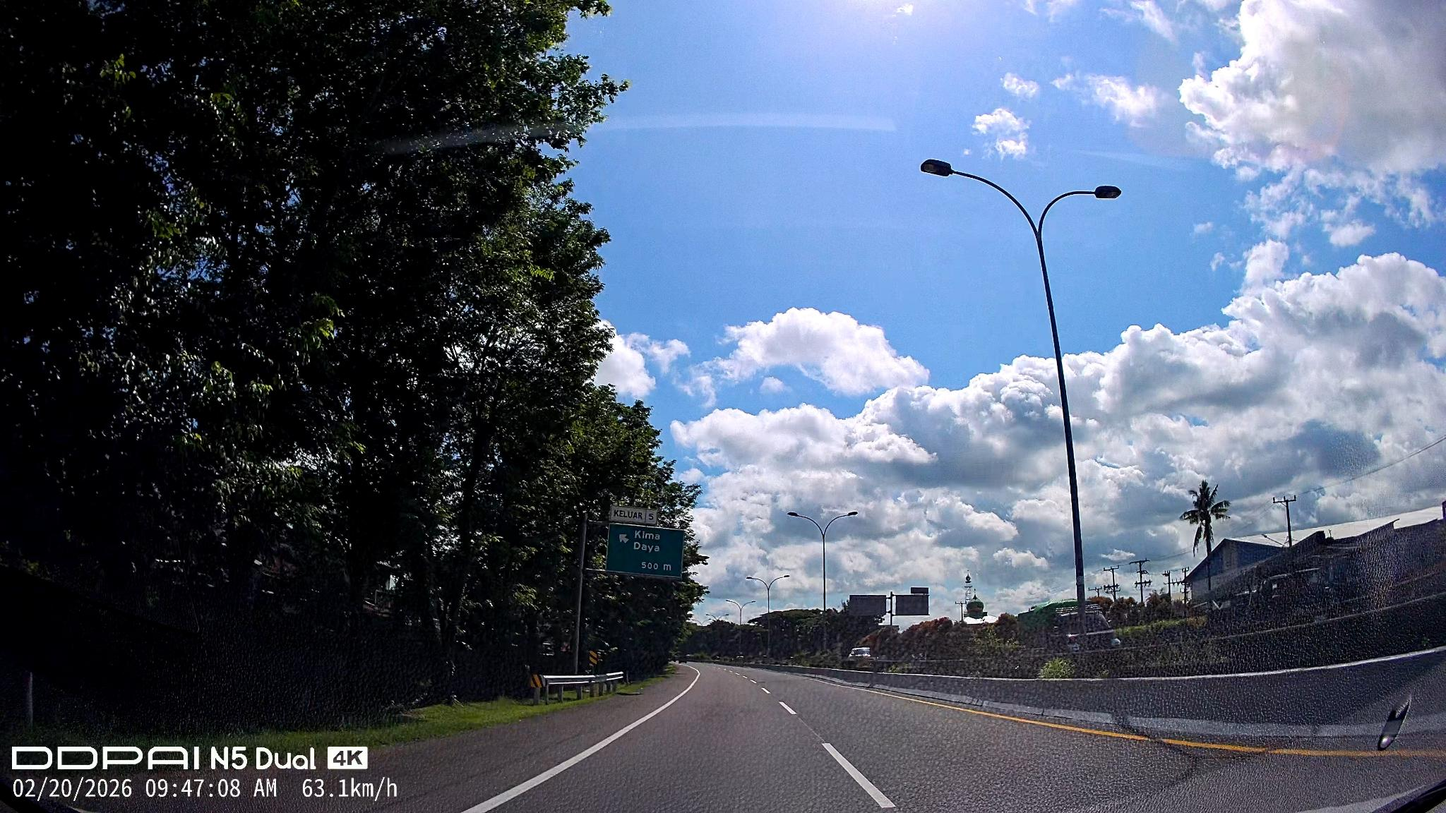rambu_teks: (602, 521, 688, 580)
